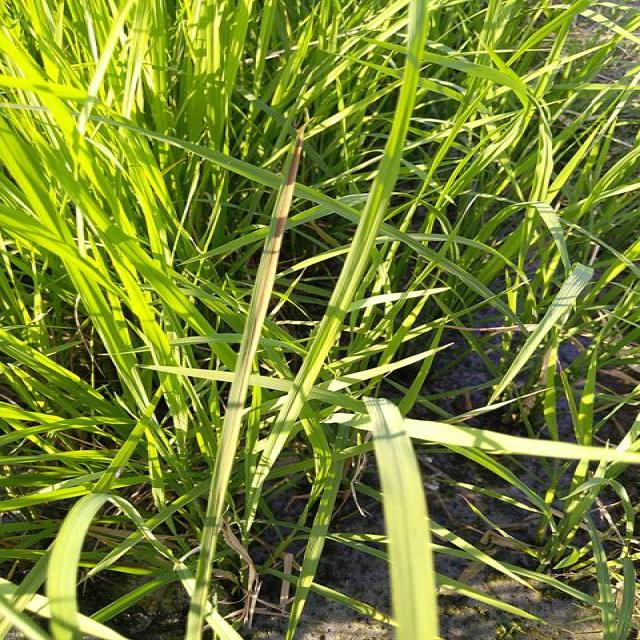Leaf Streak: (196, 149, 299, 578)
